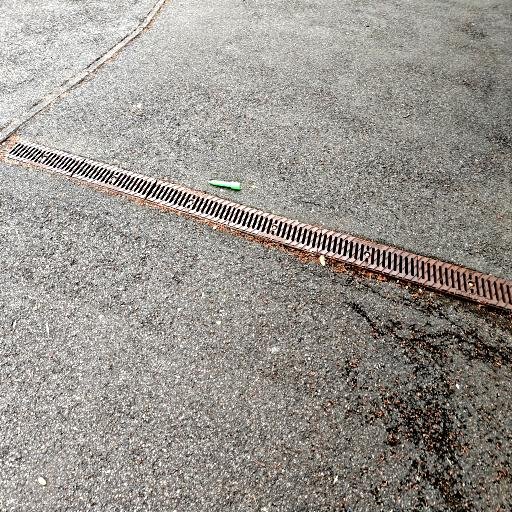Probe-Detection: (208, 180, 240, 190)
